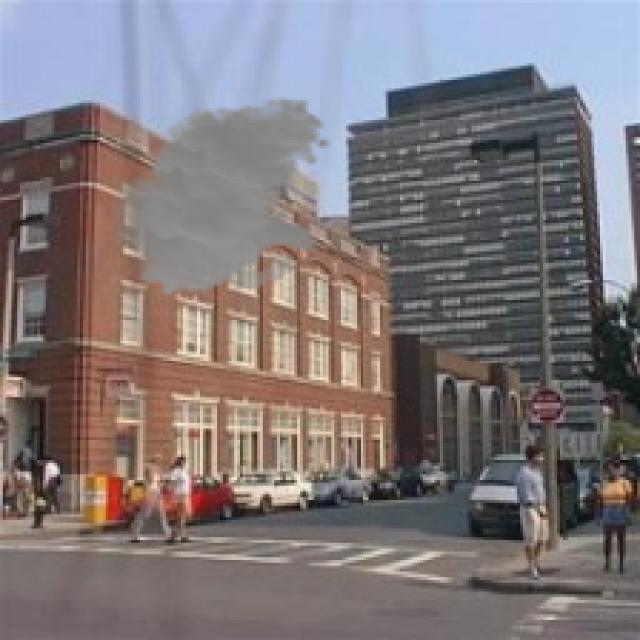Smoke: (106, 97, 332, 297)
